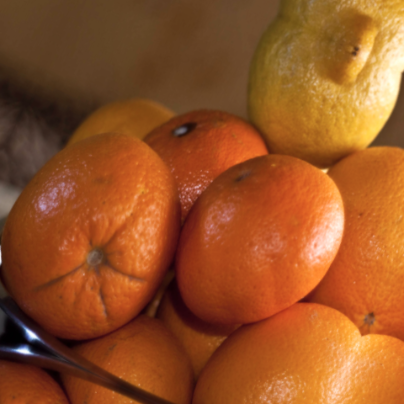orange: (133, 86, 386, 369), (0, 93, 219, 383)
